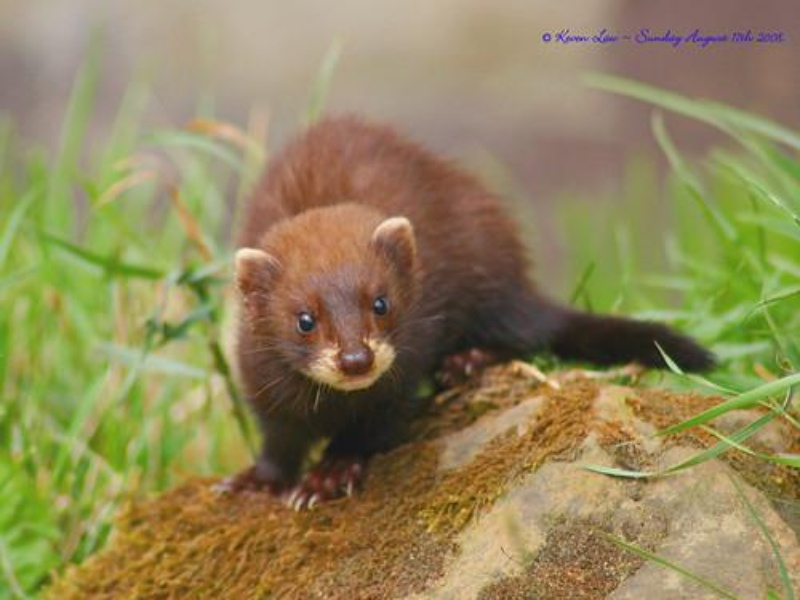minkish: (212, 111, 718, 516)
